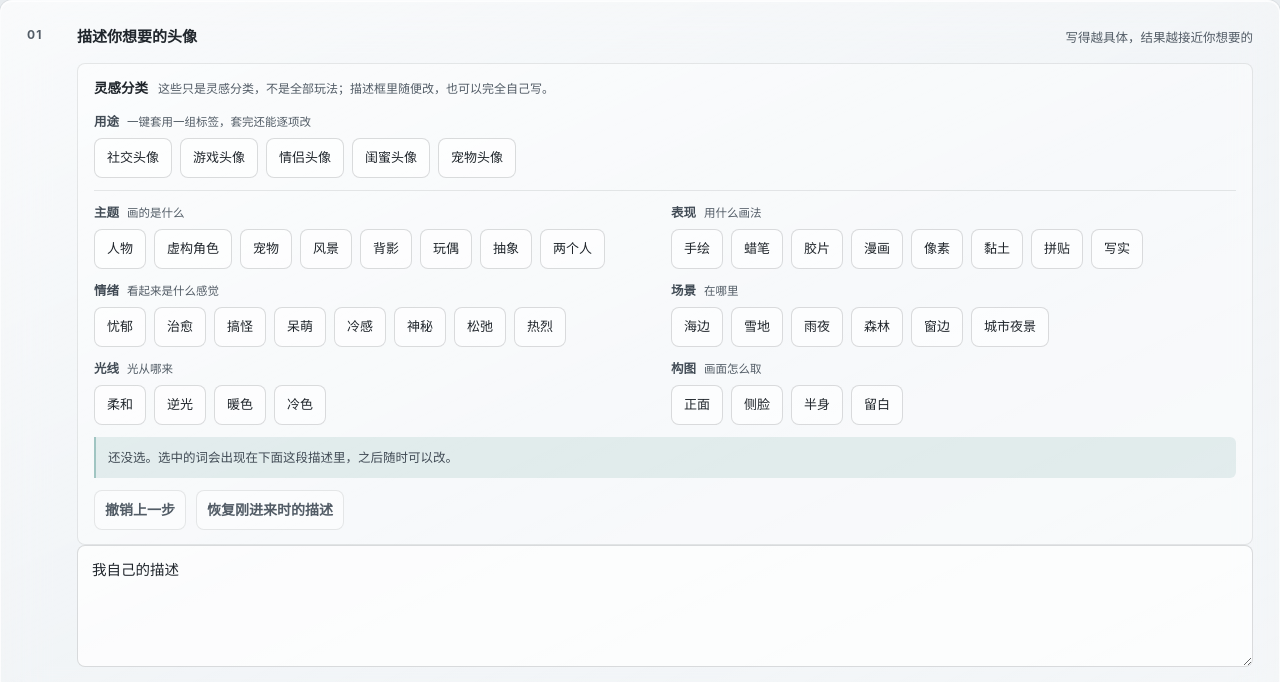
Test: 创作台的灵感分类 › 撤销上一步回到上一次的样子，恢复原文回到刚进来时的描述
This screenshot has width=1280, height=682.
Click the button "手绘" at x=697, y=249, box [671,229,723,269]
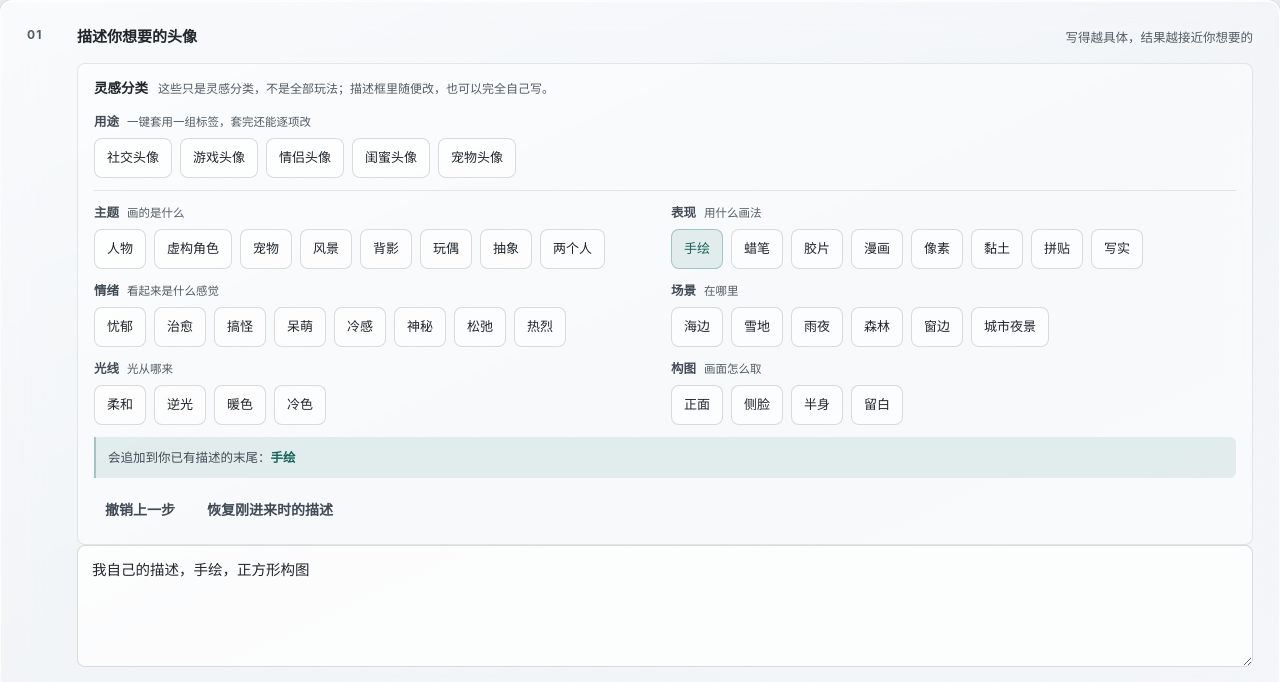
Click the button "撤销上一步" at x=140, y=510, box [94,490,186,530]
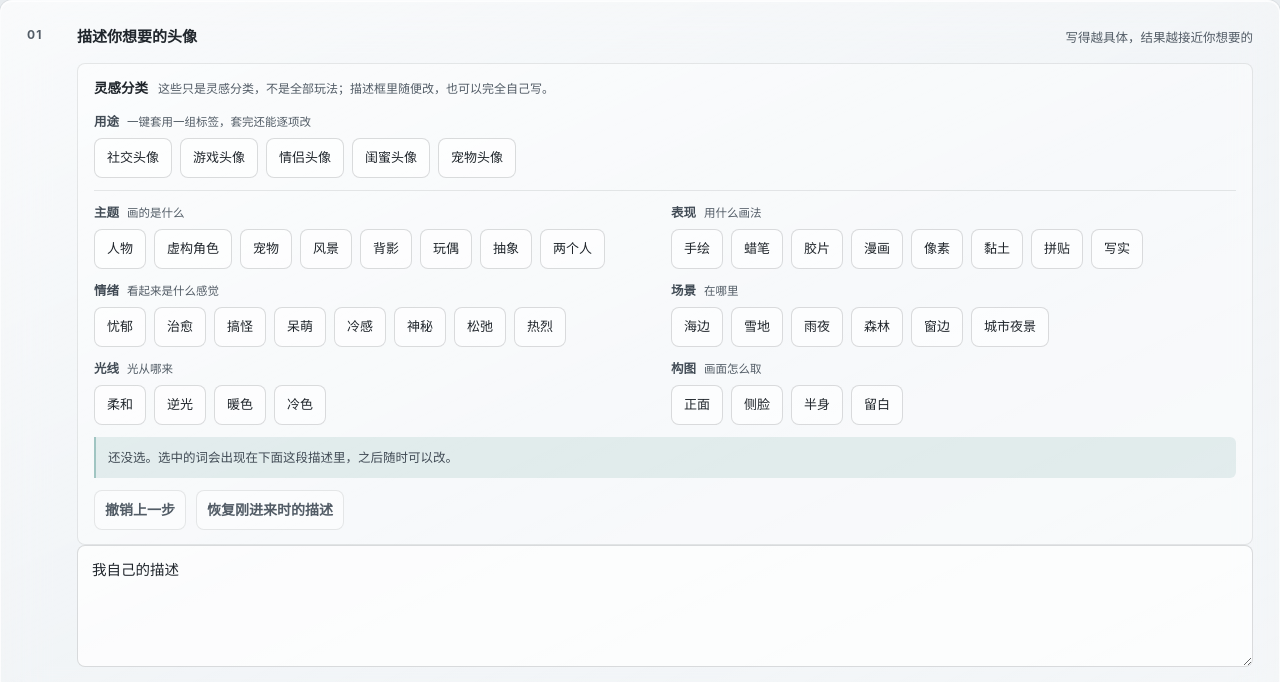
Expected: the text box holds "我自己的描述", [77,545,1253,666]
Click the button "正面" at x=697, y=405, box [671,385,723,425]
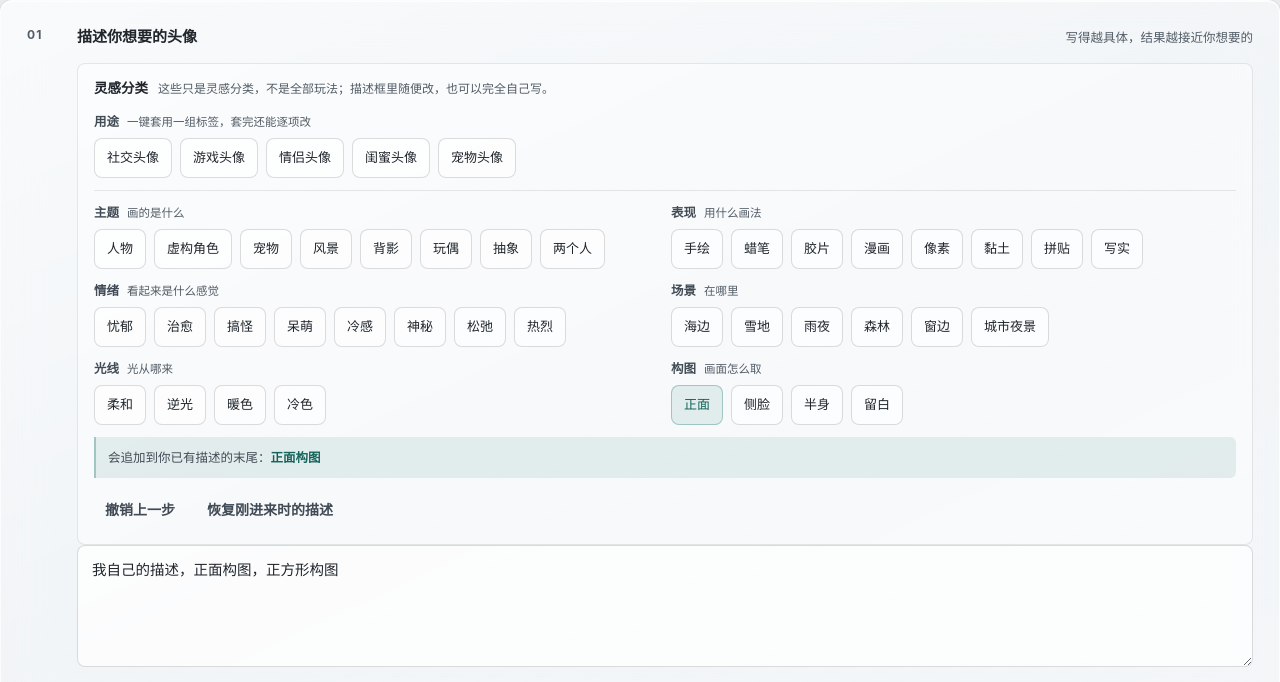
Click the button "恢复刚进来时的描述" at x=270, y=510, box [196,490,344,530]
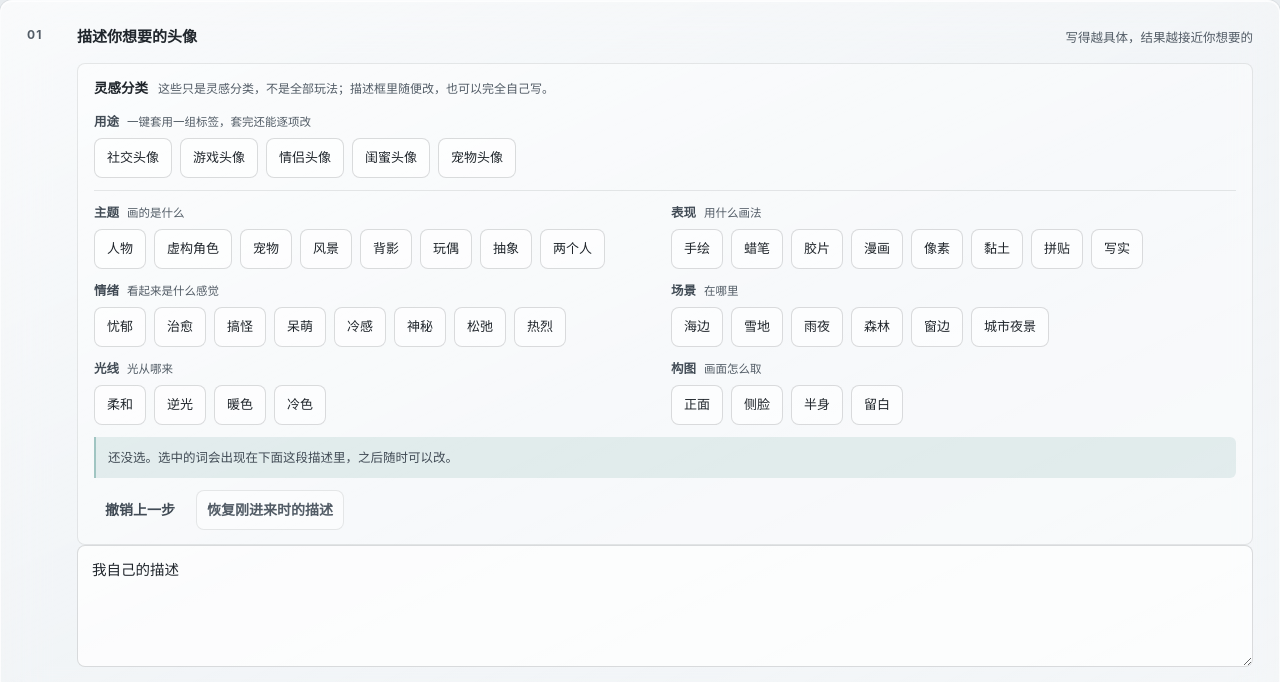
Expected: the text box holds "我自己的描述", [77,545,1253,666]
